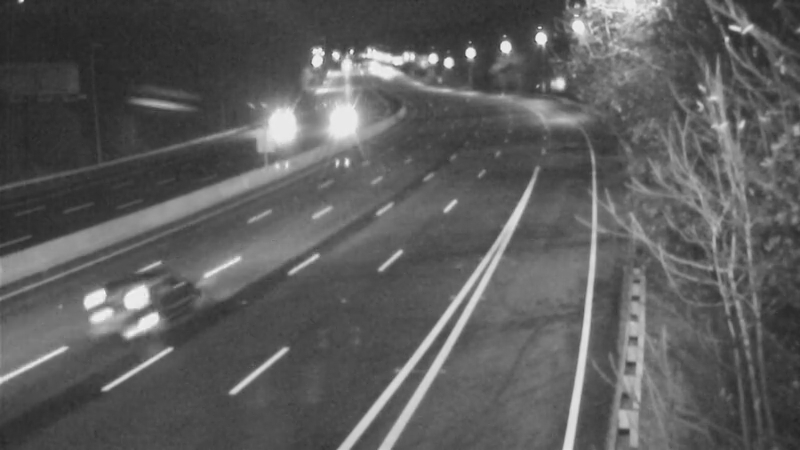vehicle: (77, 254, 187, 364), (259, 101, 309, 151), (325, 86, 375, 136)
